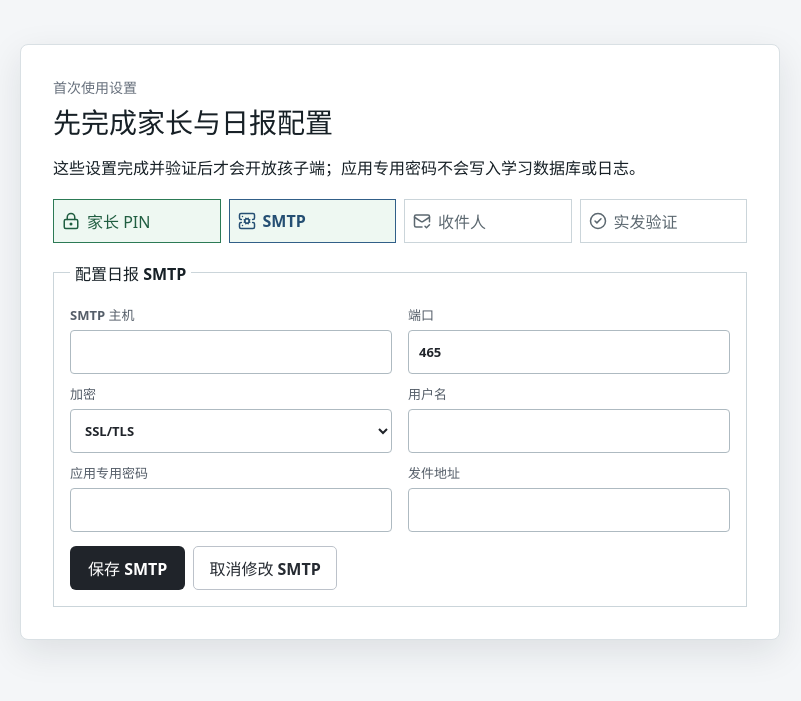
InstallationSetupWizard › lets an authenticated parent repair quarantined SMTP without skipping consent or a new accepted test
Earlier steps of the test are not shown.
Later steps or results of the test are not shown.
In the field named "初始化SMTP主机": (231, 352) [70,330,392,374], type "smtp.new.example.test"
In the field named "初始化SMTP用户名": (569, 431) [408,409,730,453], type "new@example.test"
In the password field named "初始化SMTP密码": (231, 510) [70,488,392,532], type "new-public-test-password"
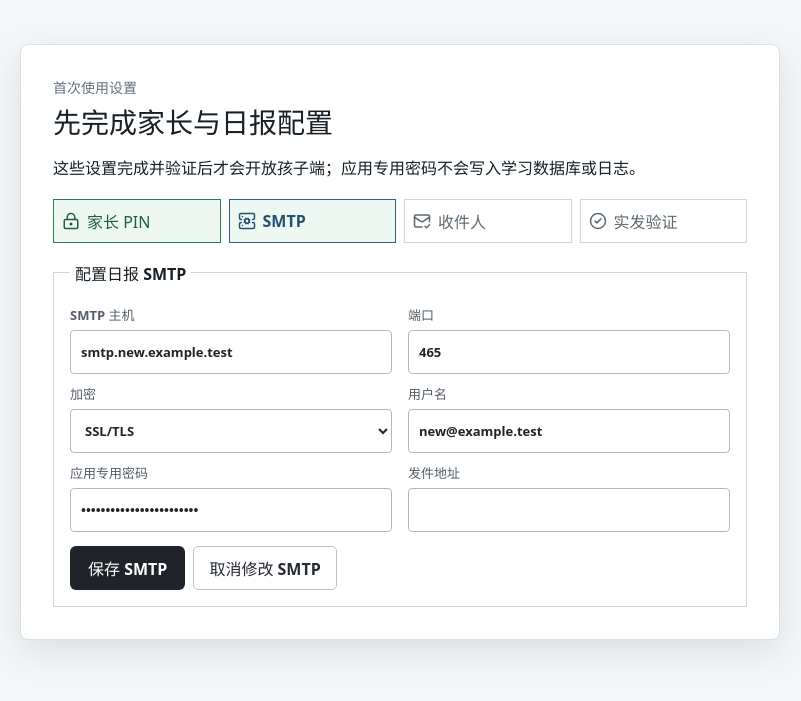
In the field named "初始化SMTP发件地址": (569, 510) [408,488,730,532], type "new@example.test"
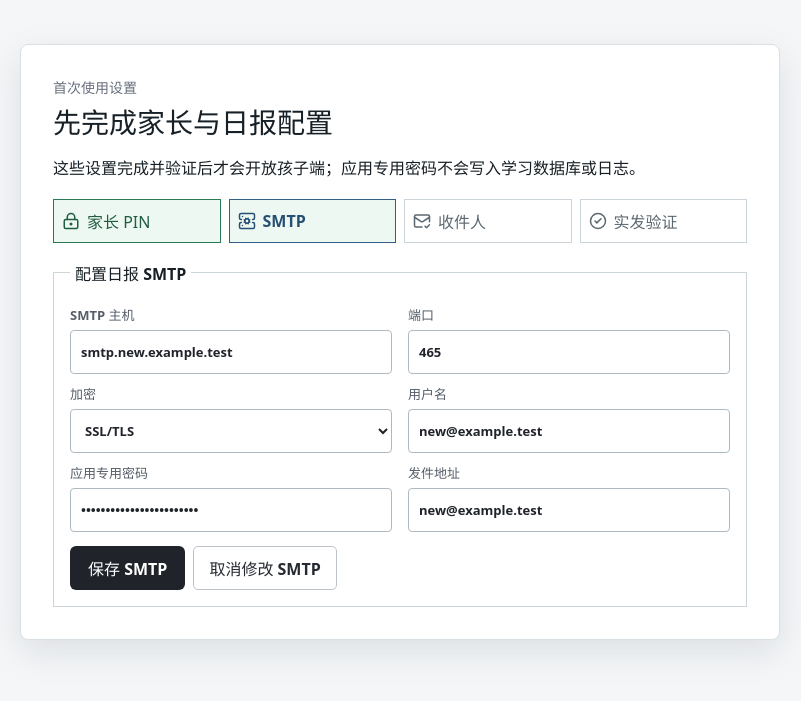
Click the button "保存 SMTP": (128, 568) [70,546,185,590]
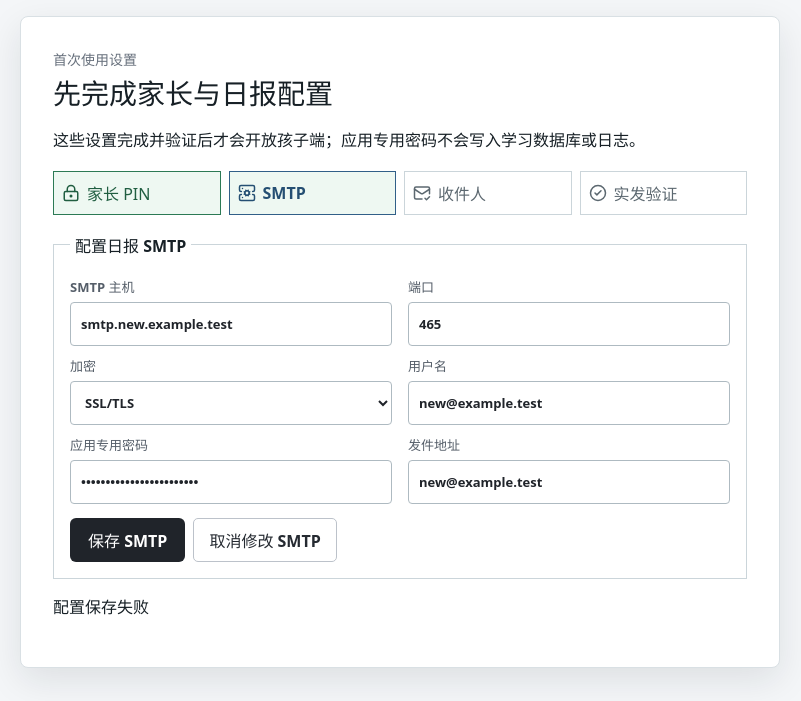
expect the message reads "配置保存失败": met, box [53,596,149,618]
Click the button "保存 SMTP": (128, 540) [70,518,185,562]
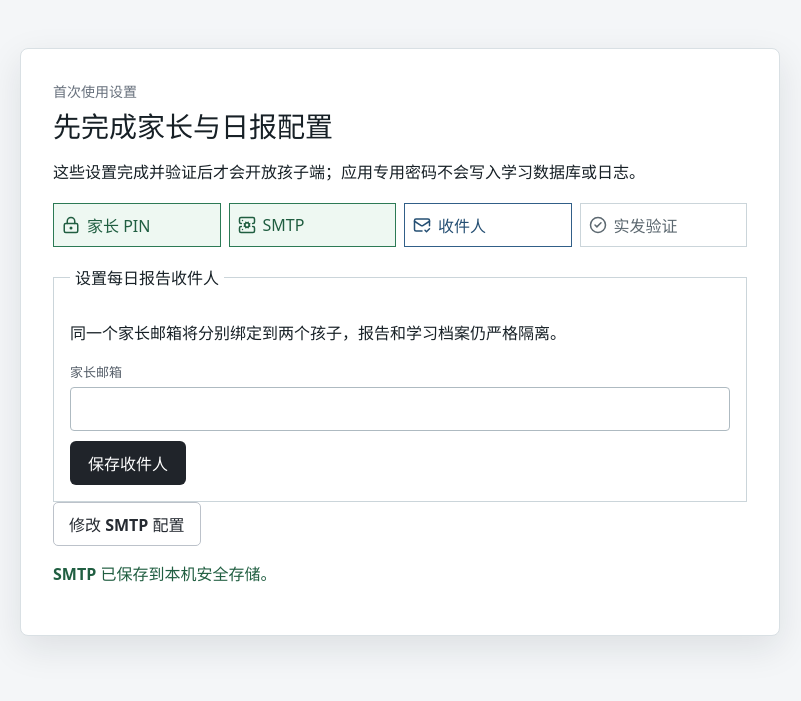
expect the field named "初始化收件邮箱" is shown: met
In the field named "初始化收件邮箱": (400, 409) [70,387,730,431], type "family@example.test"
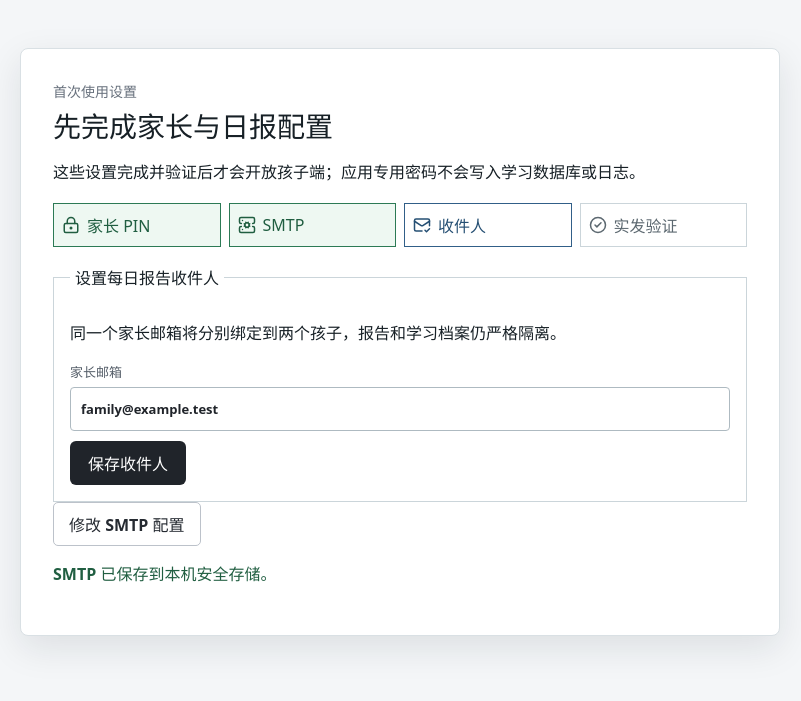
Click the button "保存收件人": (128, 463) [70,441,186,485]
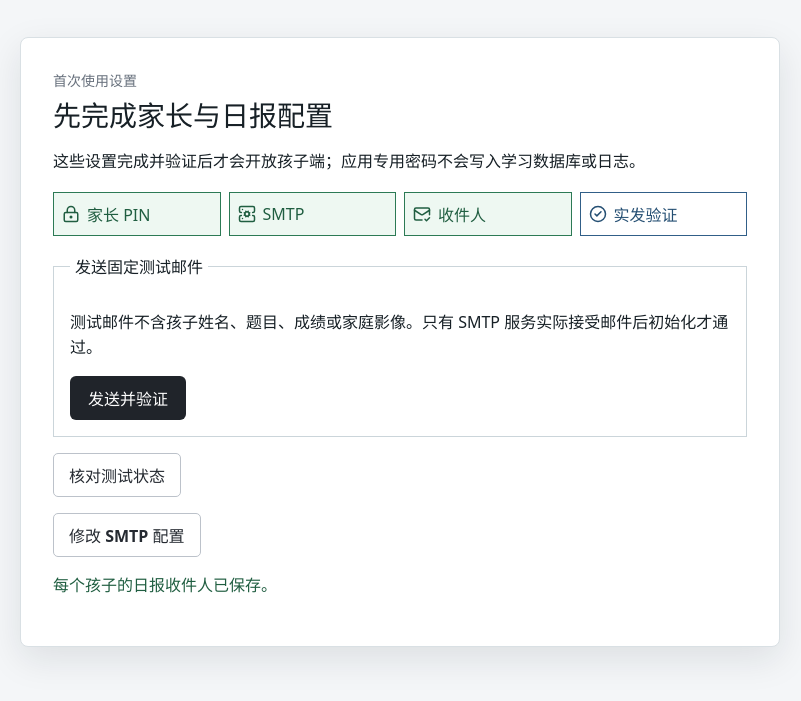
expect the button "发送并验证" is enabled: met, box [70,376,186,420]
expect the button "发送并验证" is shown: met, box [70,376,186,420]
